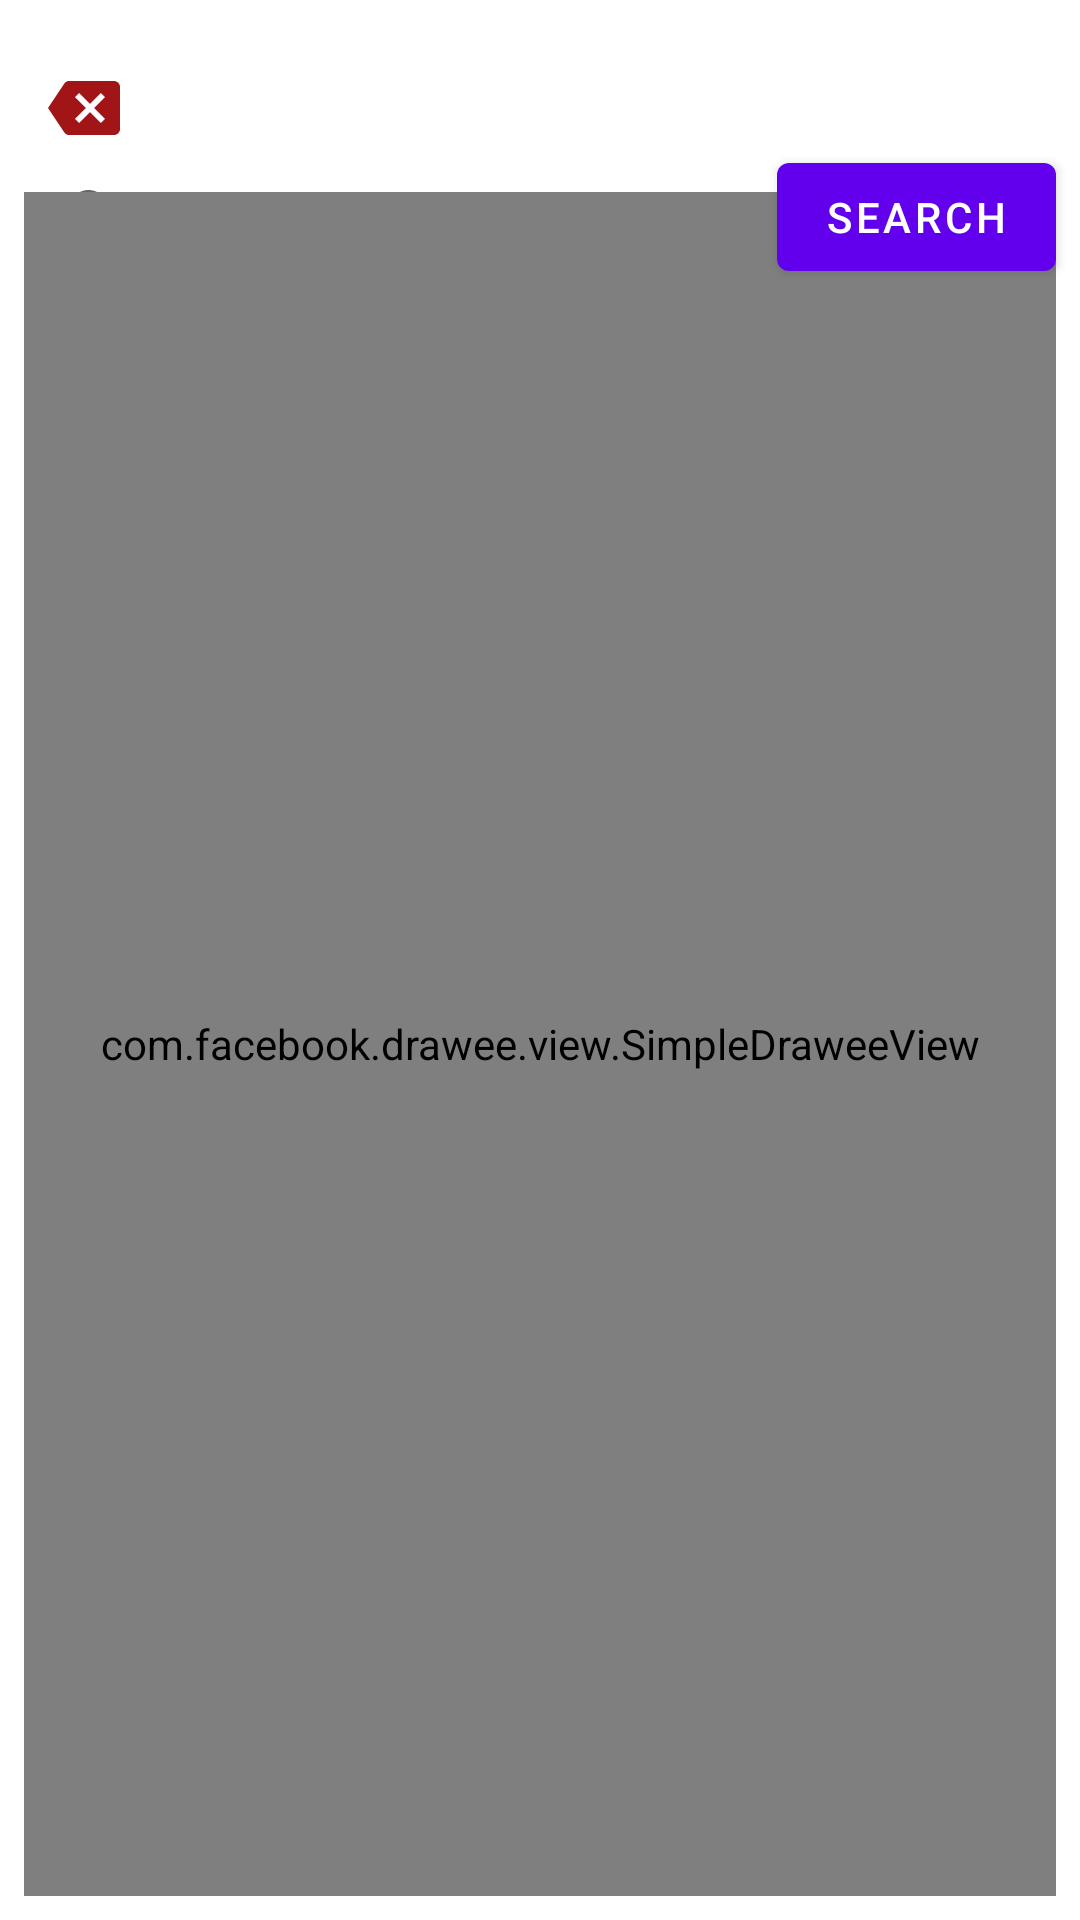

Icons on this 1080x1920 Android screen, each with the point to tap as point (x, y):
backspace: point (84, 108)
